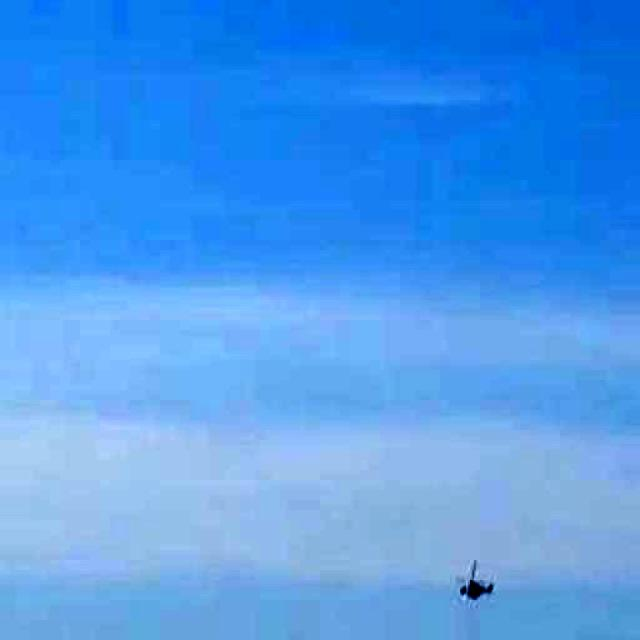drone: (440, 540, 516, 622)
